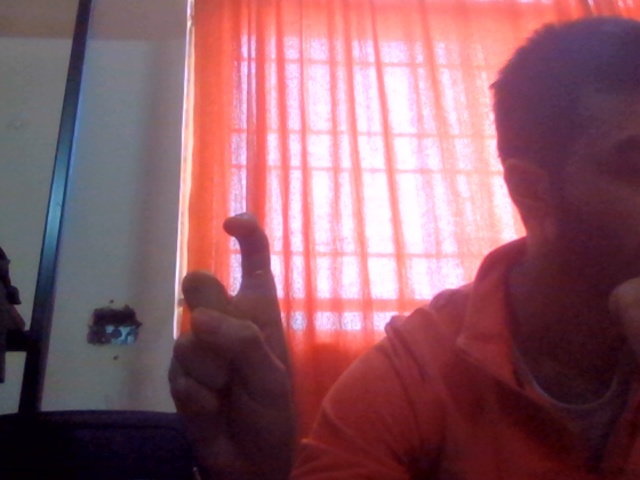X: (150, 193, 333, 480)
